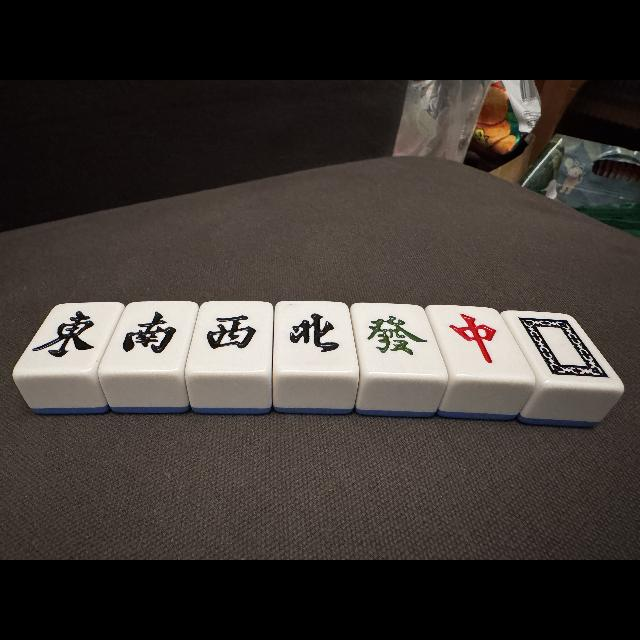dg: (360, 306, 434, 372)
dr: (440, 308, 518, 374)
dw: (524, 314, 604, 384)
we: (27, 304, 104, 371)
wn: (276, 303, 350, 369)
ws: (110, 302, 186, 370)
ww: (195, 304, 269, 371)
